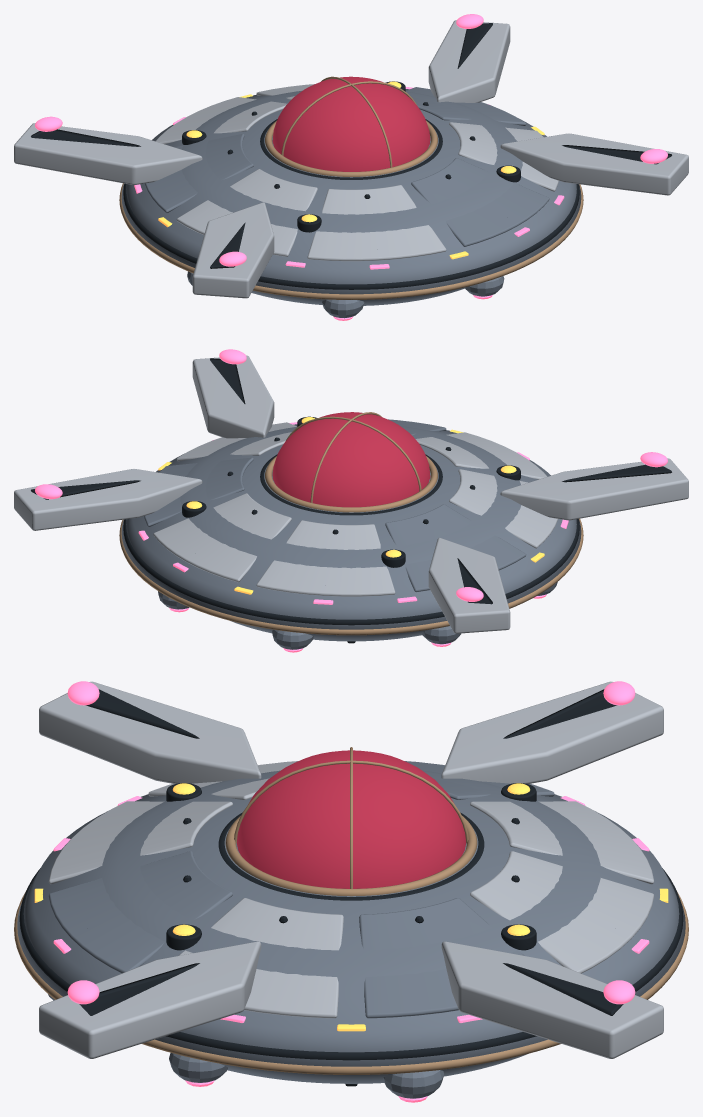
File: ufo-elite.glb
3 views of the same model, one above another, from view 1: azimuth 30°, elevation 25°; view 2: azimuth 150°, elevation 25°; view 3: azimuth 270°, elevation 25° (orthographic). The views are drawn at different scales.
Parts seen in each view (by area): view 1: Upper Rotor, Alien Hull, Class Hardware; view 2: Upper Rotor, Alien Hull, Class Hardware; view 3: Upper Rotor, Alien Hull, Class Hardware.
Boxes of the visible parts, left/top/right/bottom form: Upper Rotor: left=134, top=76, right=564, bottom=269; Alien Hull: left=119, top=89, right=583, bottom=320; Class Hardware: left=14, top=14, right=688, bottom=298; Upper Rotor: left=138, top=412, right=568, bottom=604; Alien Hull: left=119, top=424, right=583, bottom=652; Class Hardware: left=14, top=349, right=688, bottom=633; Upper Rotor: left=34, top=747, right=668, bottom=1031; Alien Hull: left=14, top=770, right=688, bottom=1102; Class Hardware: left=39, top=681, right=663, bottom=1058.
Size of the model in its own units: 2.33 by 0.869 by 1.89.
